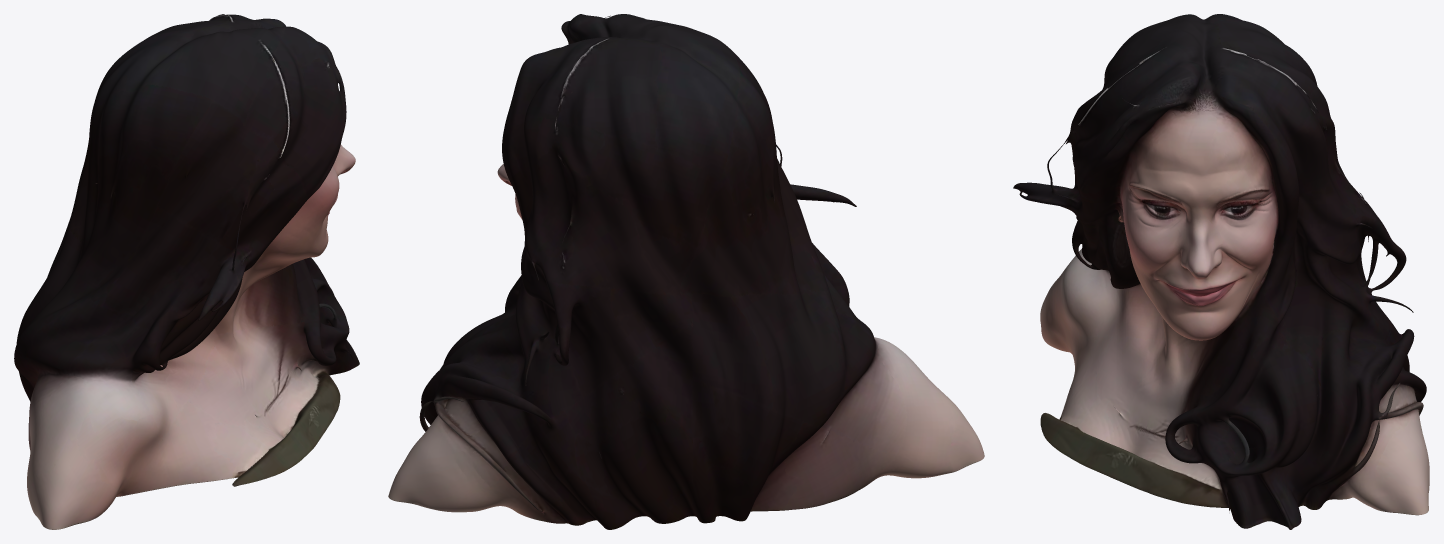
The picture shows the model from 3 angles, left to right: view 1: azimuth 30°, elevation 25°; view 2: azimuth 150°, elevation 25°; view 3: azimuth 270°, elevation 25°; orthographic projection. The views are drawn at different scales.
Parts seen in each view (by area): view 1: tripo_node_0e2d58ca-1988-4e4d-a3d5-bfe871ac2cc3; view 2: tripo_node_0e2d58ca-1988-4e4d-a3d5-bfe871ac2cc3; view 3: tripo_node_0e2d58ca-1988-4e4d-a3d5-bfe871ac2cc3.
Boxes of the visible parts, <box> form: tripo_node_0e2d58ca-1988-4e4d-a3d5-bfe871ac2cc3: <box>14,14,359,529</box>; tripo_node_0e2d58ca-1988-4e4d-a3d5-bfe871ac2cc3: <box>388,14,984,529</box>; tripo_node_0e2d58ca-1988-4e4d-a3d5-bfe871ac2cc3: <box>1013,14,1429,529</box>.
Bounding box in the file's own units: 0.9808 × 0.9001 × 0.8118.
Materials: 1 (1 with a texture image).
